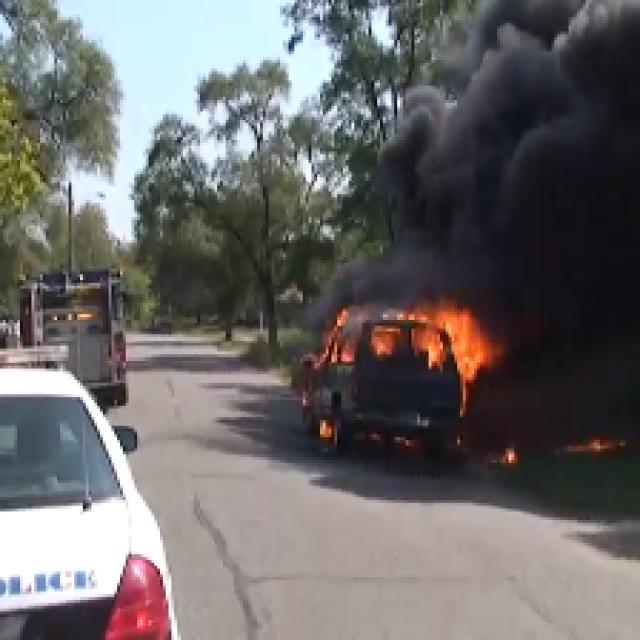Fire: (408, 304, 486, 372)
Smoke: (416, 28, 640, 298), (499, 309, 634, 425)
